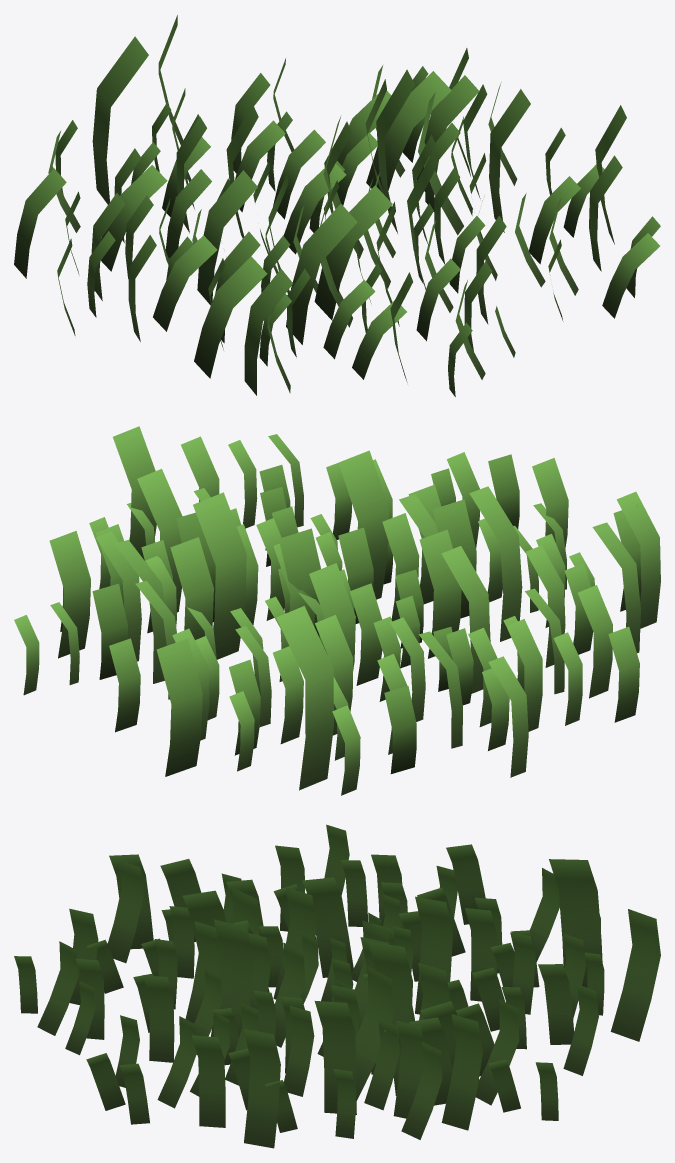
File: grass_patch.fbx
3 views of the same model, one above another, from view 1: azimuth 30°, elevation 25°; view 2: azimuth 150°, elevation 25°; view 3: azimuth 270°, elevation 25° (orthographic). The views are drawn at different scales.
Parts seen in each view (by area): view 1: gras; view 2: gras; view 3: gras.
Boxes of the visible parts, x1,y1,x2,y2 form: gras: (14,15,660,396); gras: (14,426,660,795); gras: (14,824,660,1148).
Bounding box in the file's own units: 81.16 × 22.73 × 89.46.
